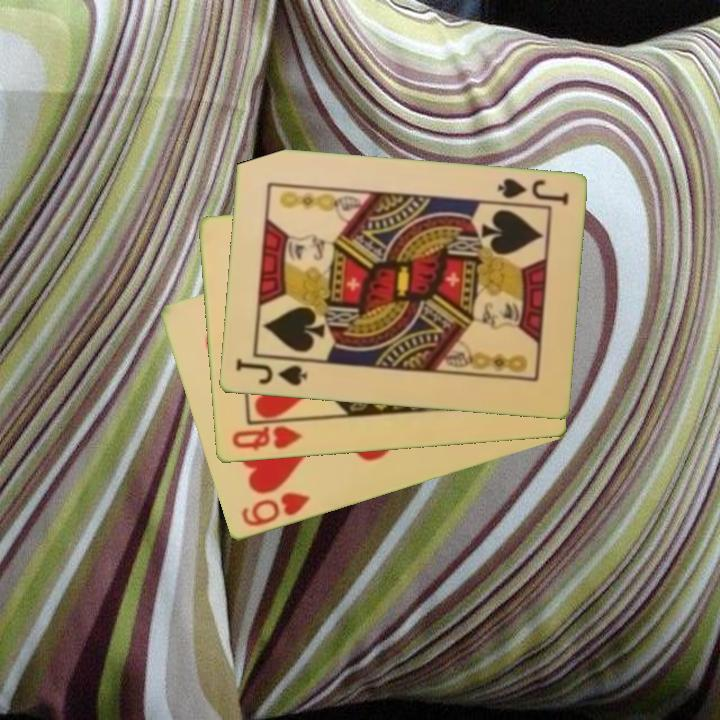6h: (237, 489, 313, 530)
Js: (232, 355, 310, 389), (493, 175, 571, 209)
Qh: (228, 422, 305, 454)
